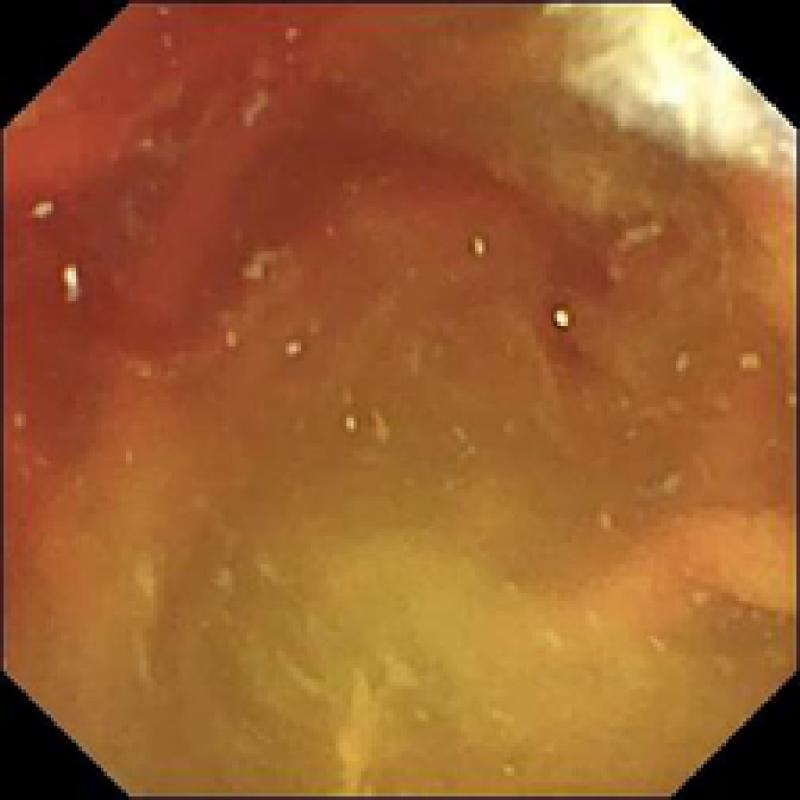bleeding: (0, 0, 628, 543)
